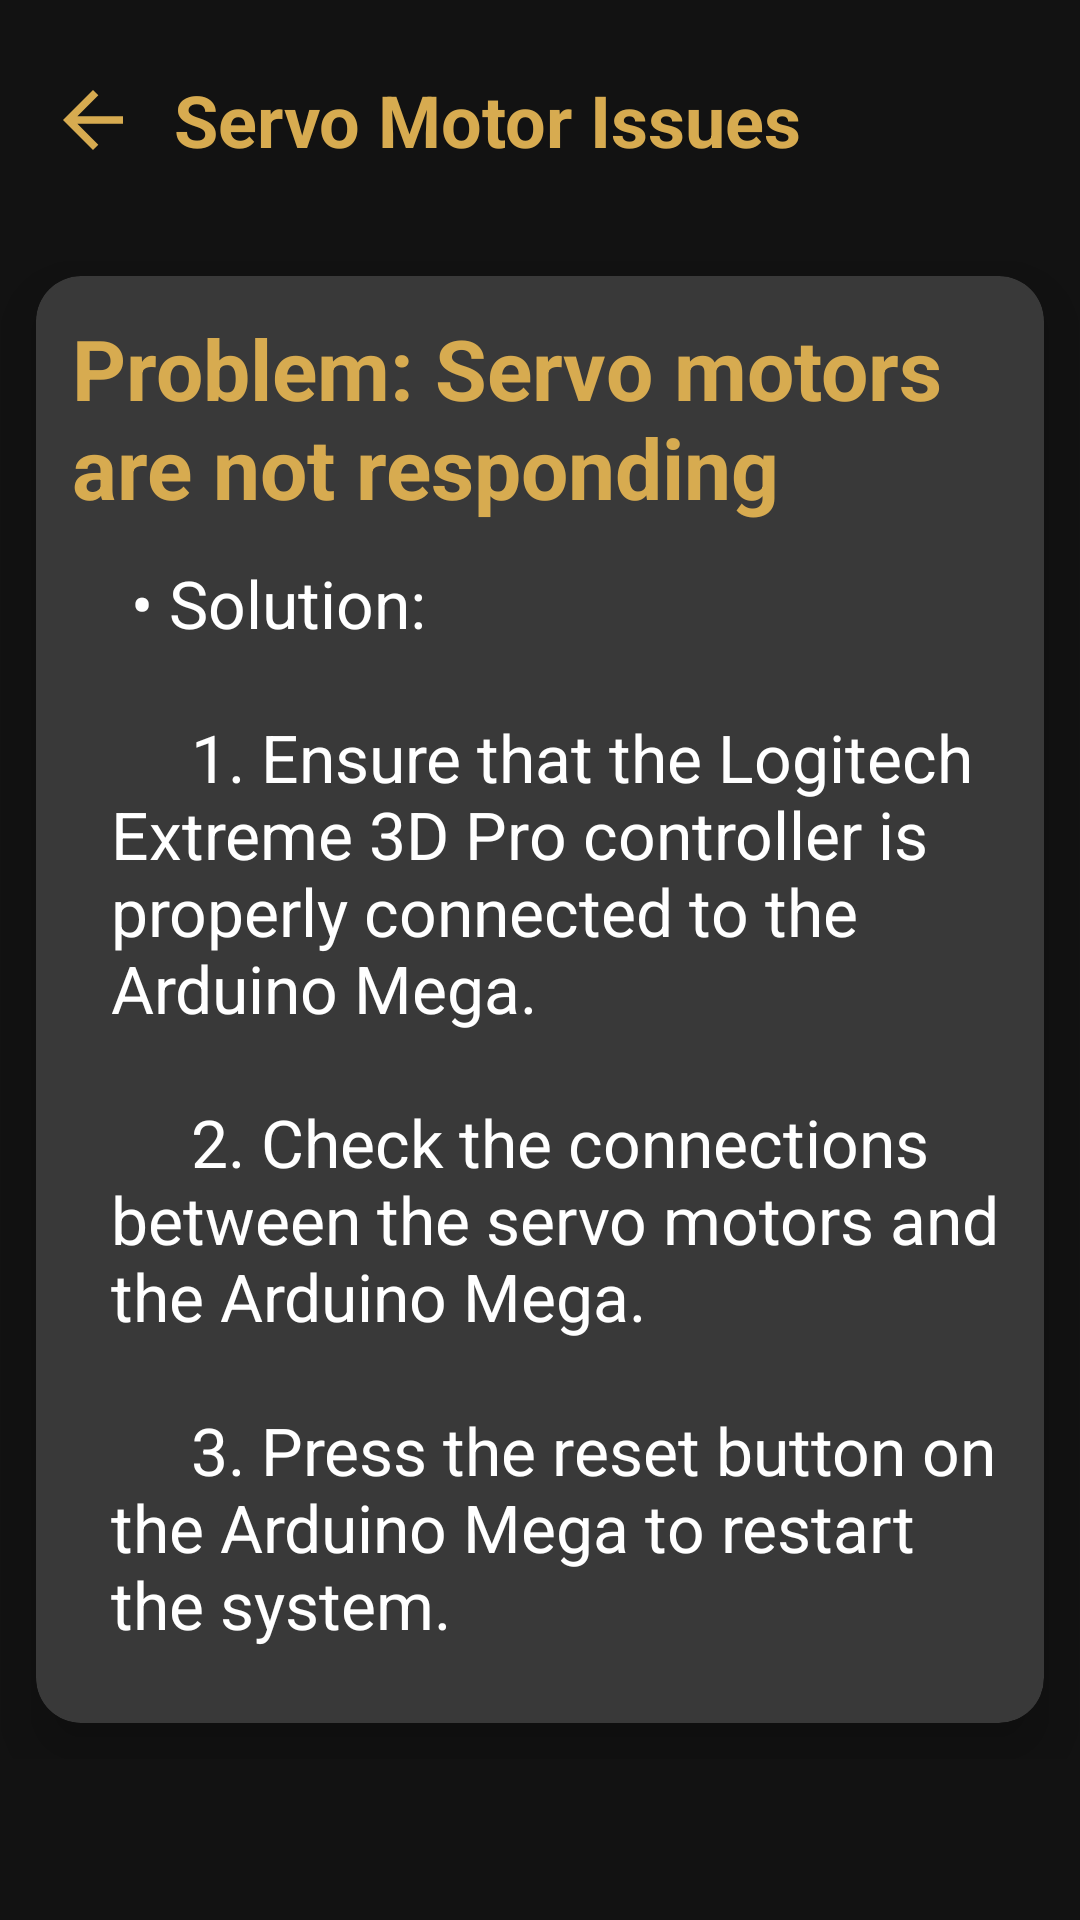

Screen size 1080px×1920px. Icon name, then its center in pixels as point (x, y):
arrow back: point (93, 120)
